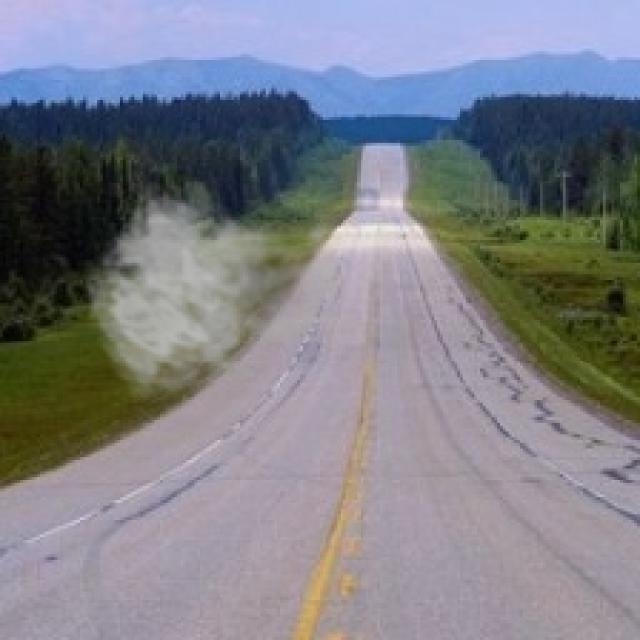smoke: (83, 174, 363, 403)
